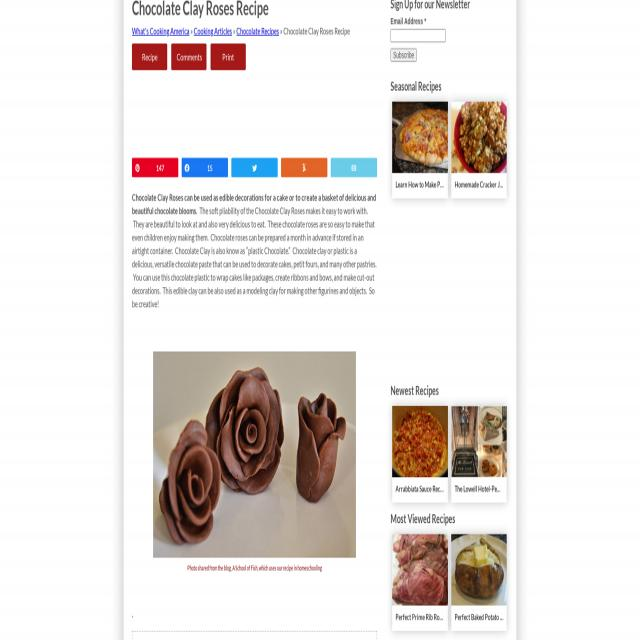button: (153, 351, 356, 558), (392, 535, 456, 605), (451, 102, 508, 173), (392, 102, 448, 173), (392, 406, 448, 477), (452, 406, 508, 477), (451, 535, 507, 605), (131, 157, 179, 177), (172, 44, 206, 69), (211, 44, 245, 69), (132, 44, 167, 68), (182, 158, 228, 176), (281, 158, 327, 176), (331, 158, 377, 176), (232, 158, 277, 176), (391, 48, 416, 62)
field: (390, 29, 446, 42)
